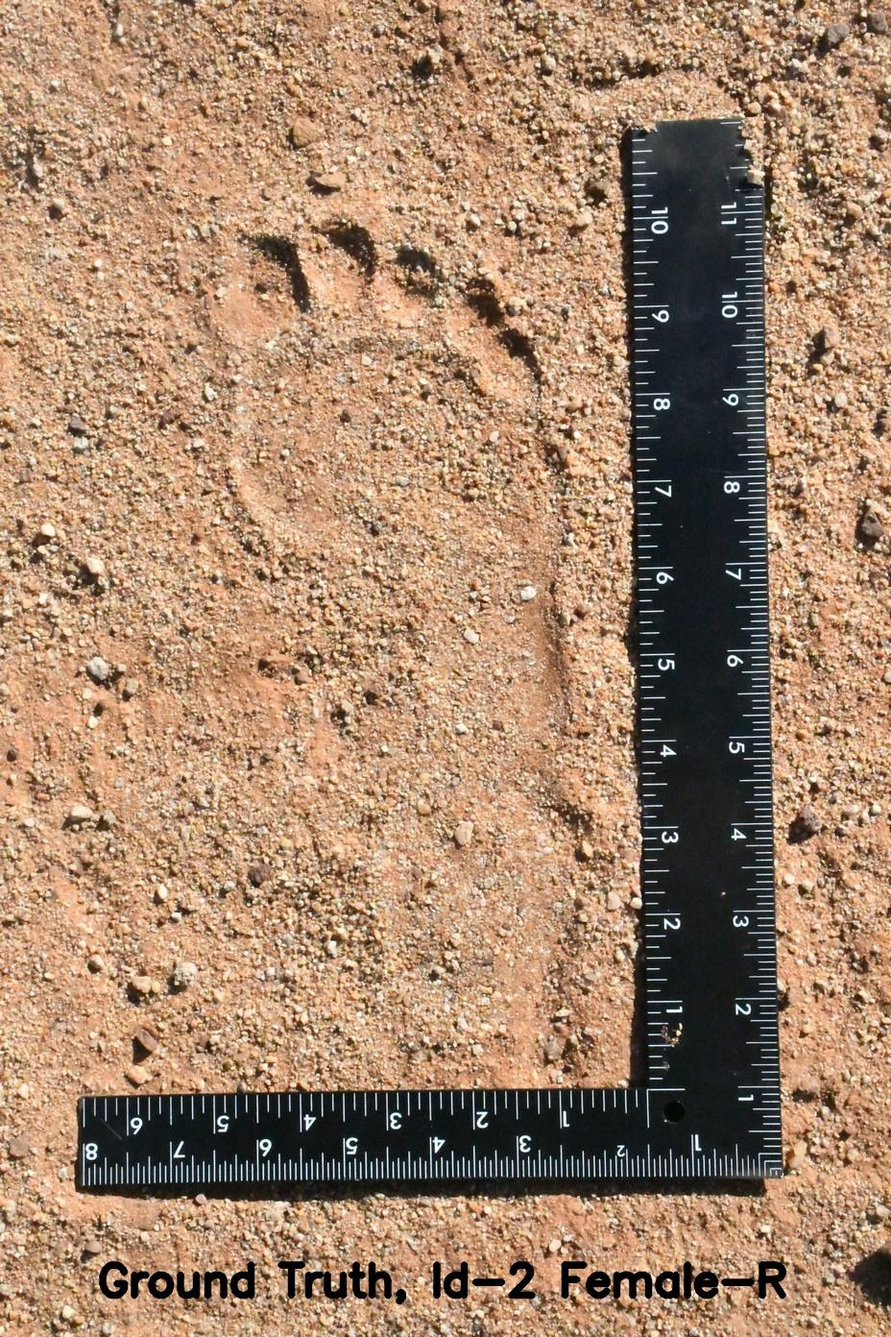human_foot_print: (193, 151, 627, 1085)
